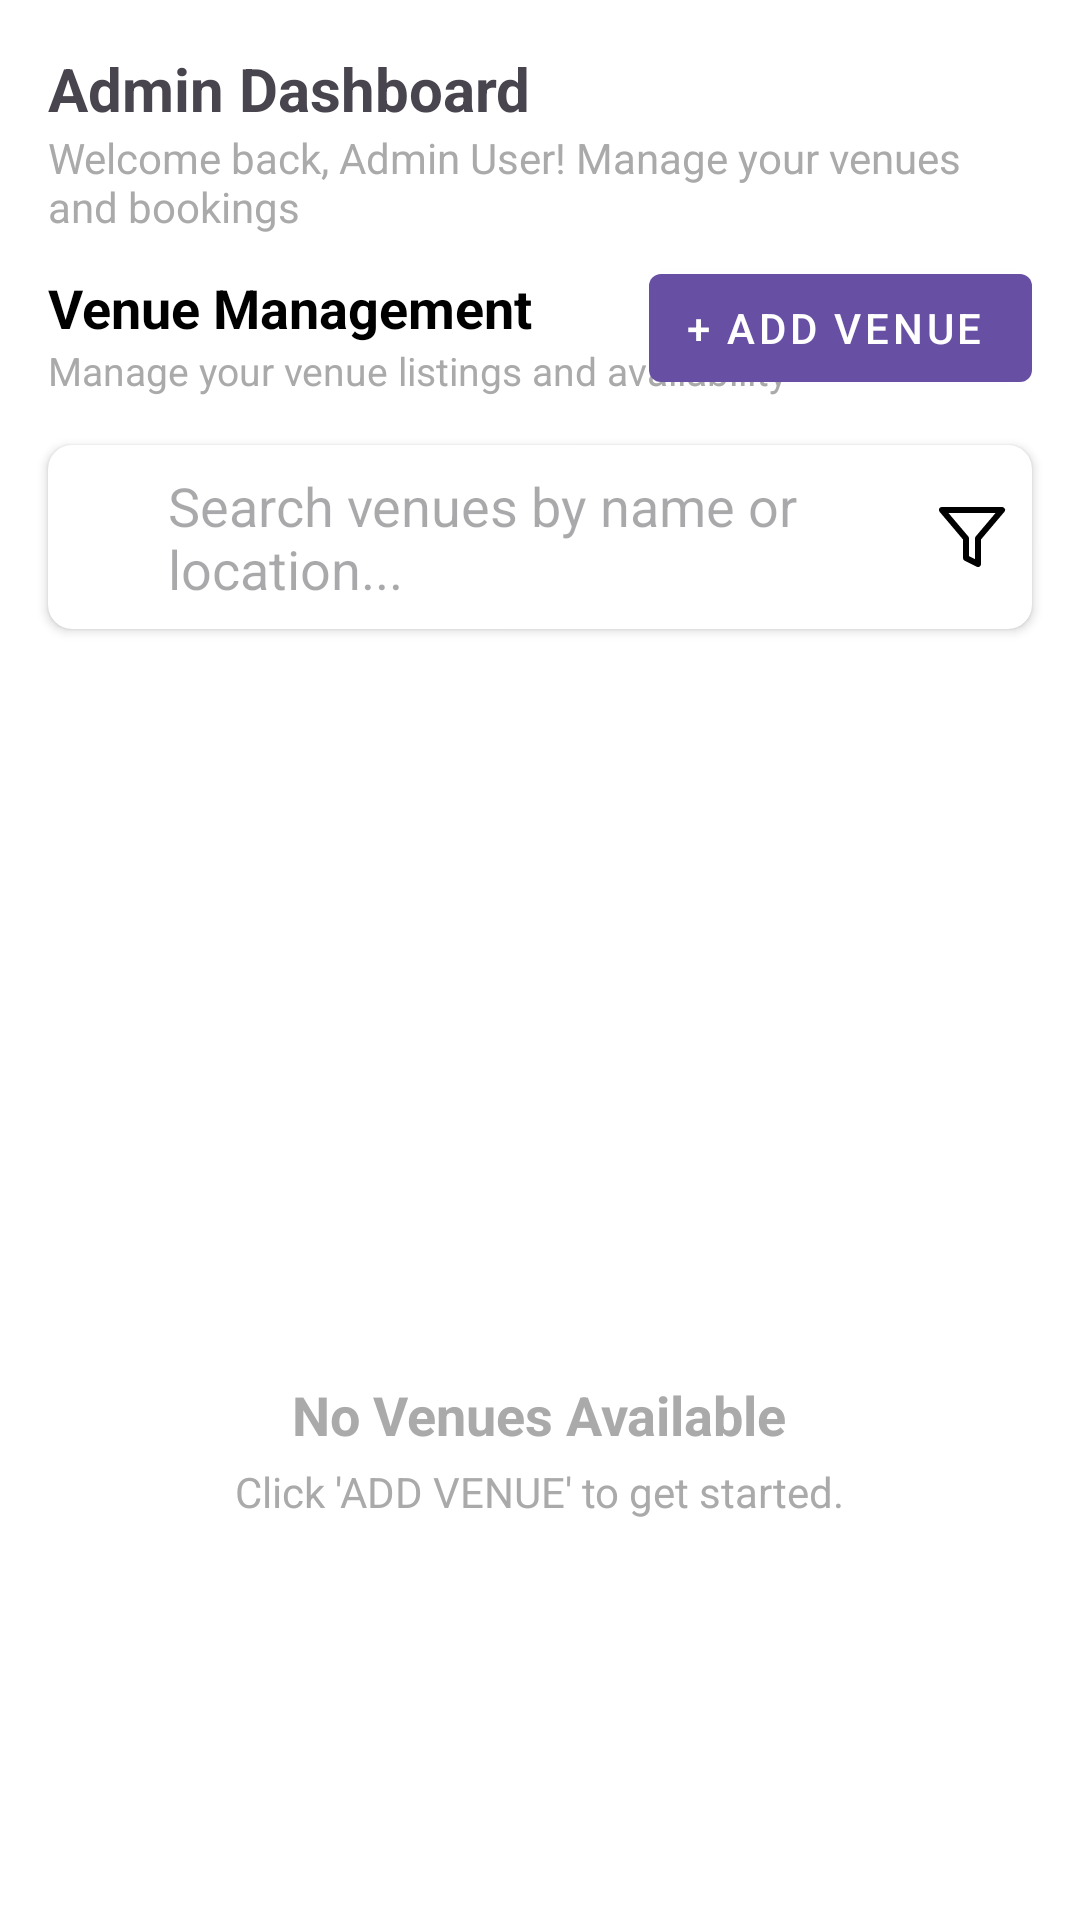

Named icons in this screenshot (1080 x 1920) and their centers, (x=x, y=y):
Filter: (x=972, y=537)
